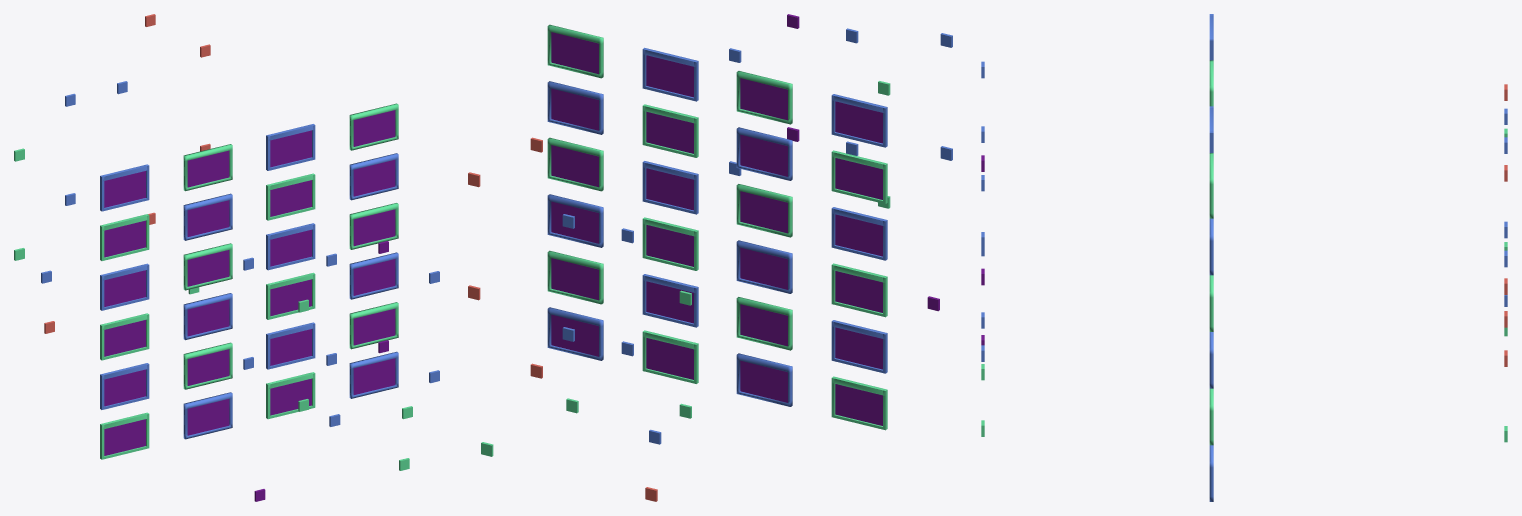
The model's file is Scenario2.gltf.
3 renders of one model, left to right at view 1: azimuth 30°, elevation 25°; view 2: azimuth 150°, elevation 25°; view 3: azimuth 270°, elevation 25°, orthographic. The views are drawn at different scales.
Parts seen in each view (by area): view 1: portal2.003, portal2.004, portal2.005, portal2.010, portal2.011, portal2, portal2.002, portal2.006, portal2.007, portal2.008, portal2.009, portal2.012 (+36 smaller); view 2: portal2.012, portal1.009, portal2.006, portal2.011, portal2.004, portal1.006, portal2.007, portal2.008, portal1.008, portal2.010, portal1, portal2.002 (+36 smaller); view 3: no part large enough to name.
Part boxes in pixels (<box>): portal2.003: <box>187,399,229,435</box>; portal2.004: <box>187,349,229,385</box>; portal2.005: <box>353,259,395,295</box>; portal2.010: <box>187,200,229,236</box>; portal2.011: <box>353,110,395,146</box>; portal2: <box>353,358,395,394</box>; portal2.002: <box>353,308,395,345</box>; portal2.006: <box>353,209,395,246</box>; portal2.007: <box>187,299,229,336</box>; portal2.008: <box>187,250,229,286</box>; portal2.009: <box>187,150,229,187</box>; portal2.012: <box>353,160,395,196</box>; portal2.012: <box>551,88,598,130</box>; portal1.009: <box>835,101,882,143</box>; portal2.006: <box>551,145,598,187</box>; portal2.011: <box>551,32,598,74</box>; portal2.004: <box>740,304,787,346</box>; portal1.006: <box>646,168,693,210</box>; portal2.007: <box>740,247,787,289</box>; portal2.008: <box>740,191,787,233</box>; portal1.008: <box>835,214,882,256</box>; portal2.010: <box>740,134,787,176</box>; portal1: <box>646,338,693,379</box>; portal2.002: <box>551,258,598,300</box>.
Bounding box in the file's own units: 62.58 × 61.58 × 84.16.
